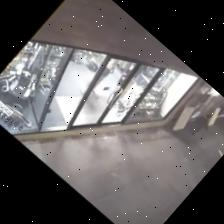person: (191, 115, 210, 135)
